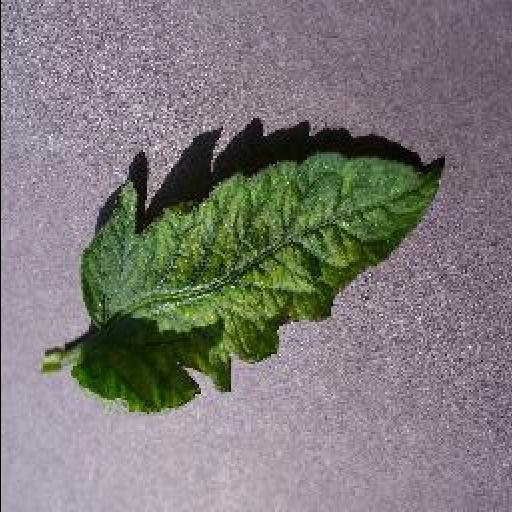disease_tomato: (70, 150, 444, 412)
